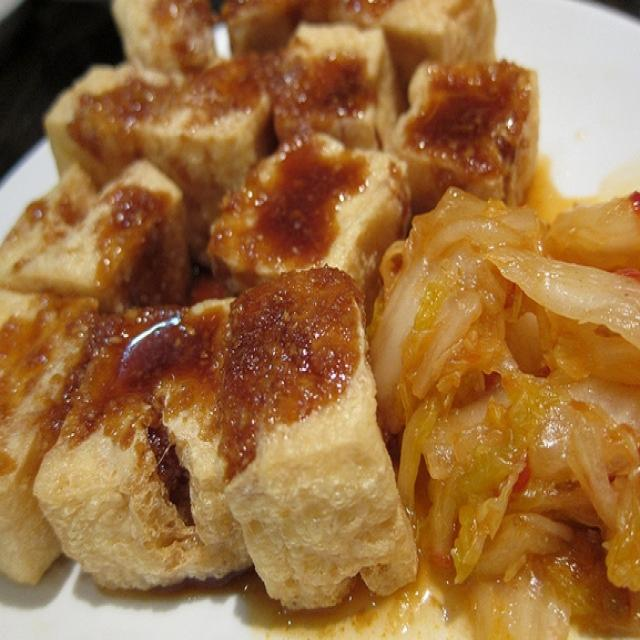豆腐料理: (11, 4, 603, 624)
